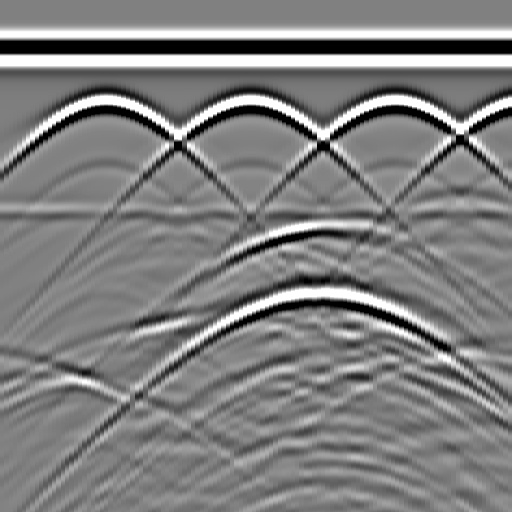grout_surface: (1, 198, 512, 228)
rebar: (84, 84, 124, 124), (228, 84, 268, 124), (372, 84, 412, 124), (502, 84, 512, 124)
rock_surface: (1, 310, 511, 383)
water_void: (294, 200, 354, 240)
